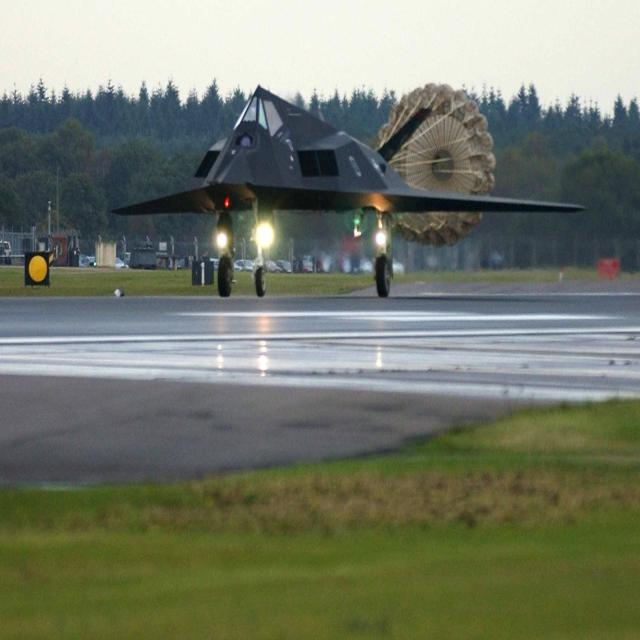MIL_Plane: (110, 83, 588, 298)
